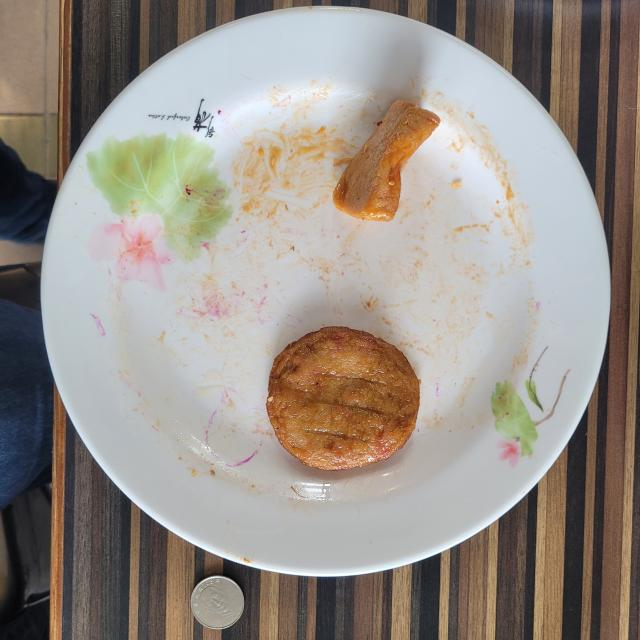coin: (190, 575, 245, 630)
creamy tofu: (332, 100, 440, 221)
fish cake: (266, 326, 419, 470)
